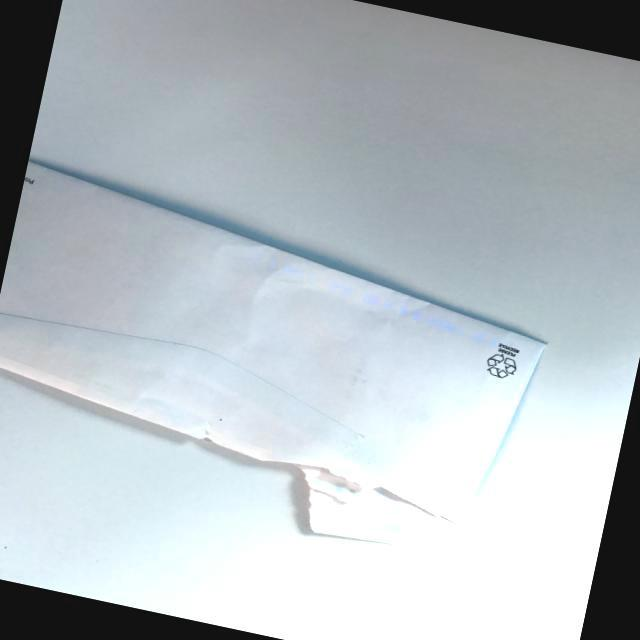paper: (0, 155, 577, 584)
